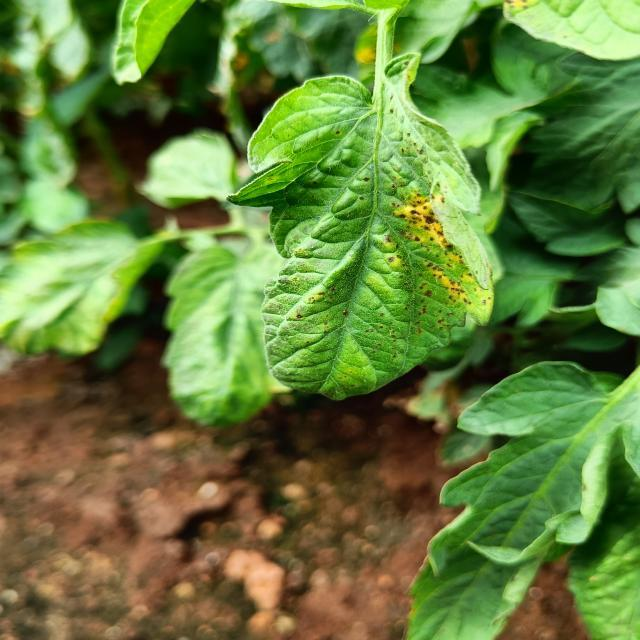Tomato mosaic virus leaf: (253, 64, 507, 405)
